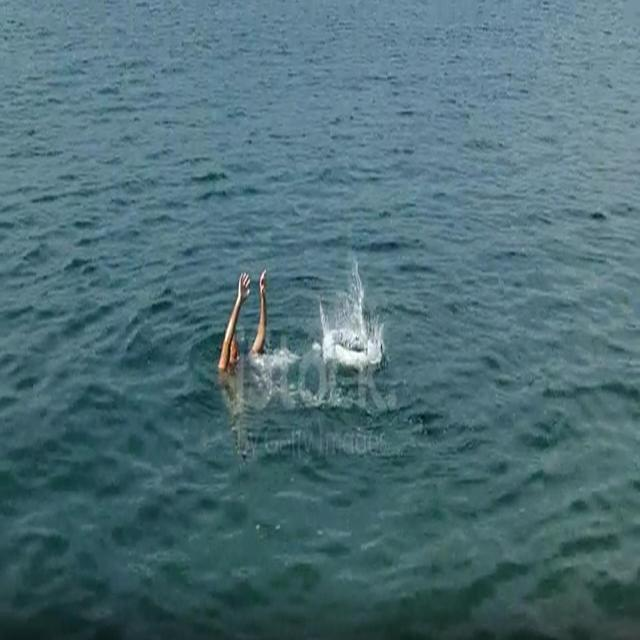Out of Water: (214, 264, 272, 374)
